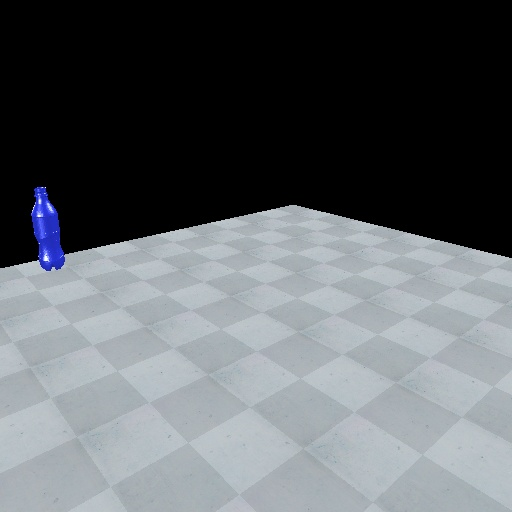bottle: (28, 184, 67, 273)
